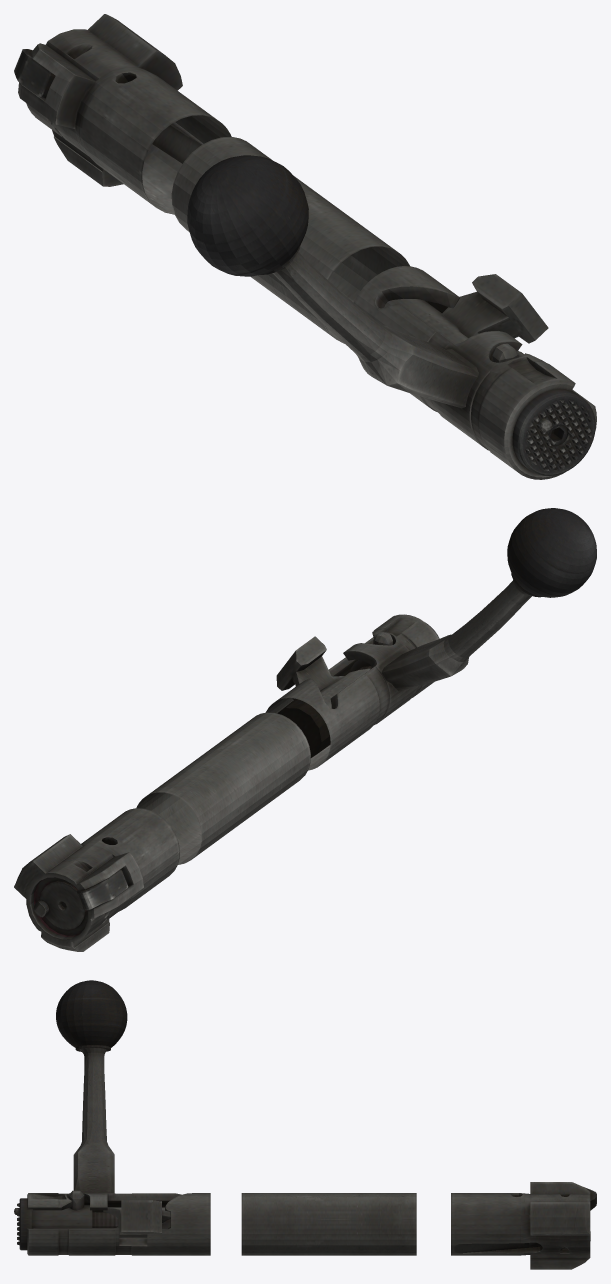
3 views of the same model, one above another, from view 1: azimuth 30°, elevation 25°; view 2: azimuth 150°, elevation 25°; view 3: azimuth 270°, elevation 25° (orthographic). The views are drawn at different scales.
Parts seen in each view (by area): view 1: TW_55801eed4bdc2d89578b4588_PZ_Import; view 2: TW_55801eed4bdc2d89578b4588_PZ_Import; view 3: TW_55801eed4bdc2d89578b4588_PZ_Import.
Boxes of the visible parts, x1=… form: TW_55801eed4bdc2d89578b4588_PZ_Import: x1=14, y1=14, x2=596, y2=479; TW_55801eed4bdc2d89578b4588_PZ_Import: x1=14, y1=508, x2=596, y2=951; TW_55801eed4bdc2d89578b4588_PZ_Import: x1=14, y1=980, x2=596, y2=1269.
Size of the model in its own units: 0.0422 by 0.0963 by 0.0383.
Materials: 1 (1 with a texture image).
